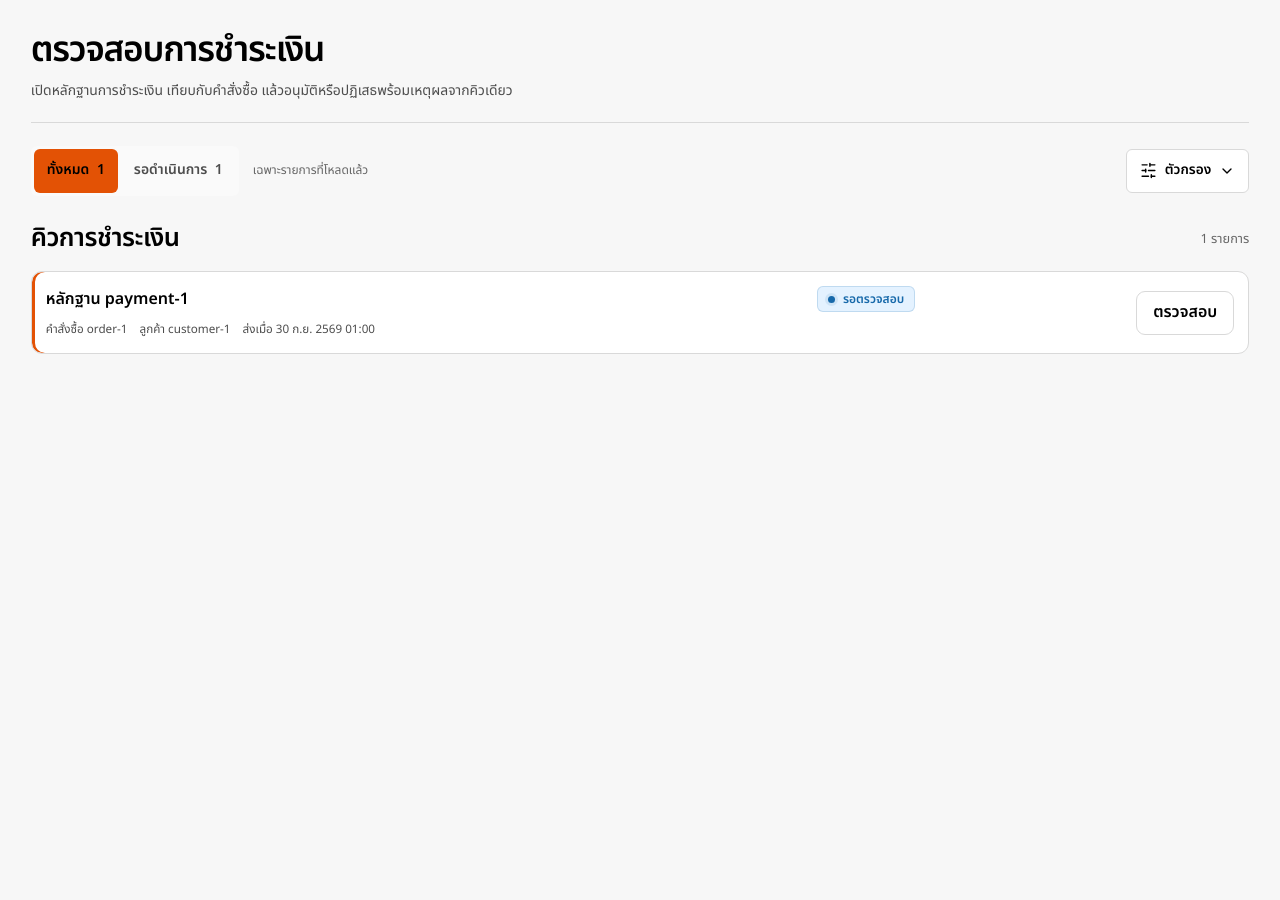
Scenario: OrganizationPaymentsView › provides task-first shortcuts without changing review and filter actions
The width and height of the screenshot is (1280, 900).
Check: the heading "หลักฐาน payment-1" is shown, box [46,287,189,311]
Check: the field labelled "สถานะ Payment" is not shown
Click the button "ตัวกรอง" at (1188, 170), box [1126,148,1249,192]
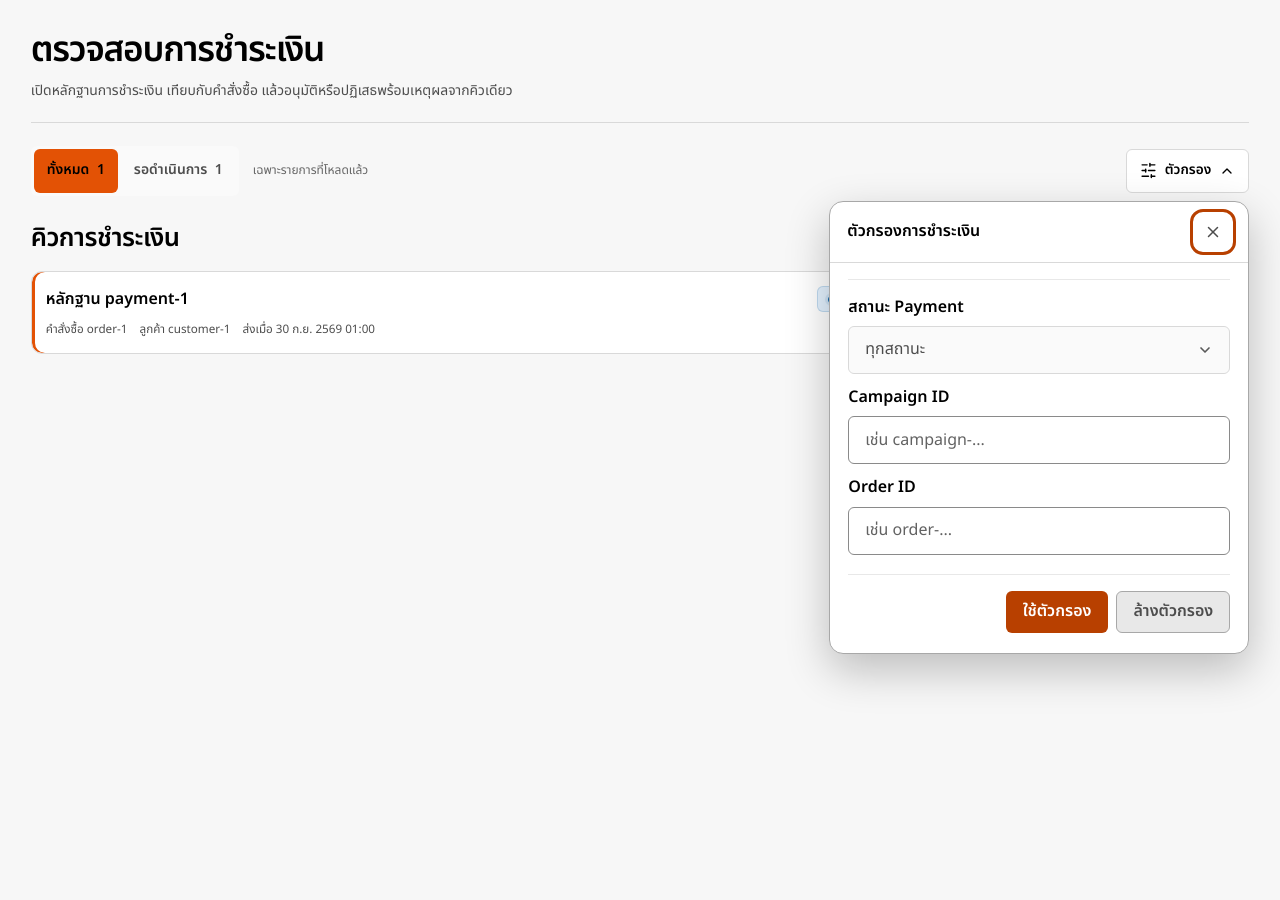
Check: the button "ตัวกรอง" is expanded, box [1126,148,1249,192]
Check: the dropdown labelled "สถานะ Payment" is shown, box [848,326,1230,374]
Check: the field labelled "Campaign ID" is shown, box [848,416,1230,464]
